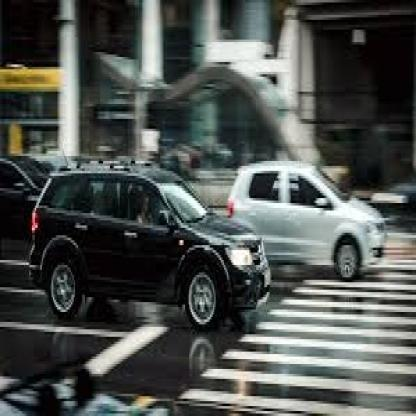Crosswalk: (192, 250, 416, 411)
